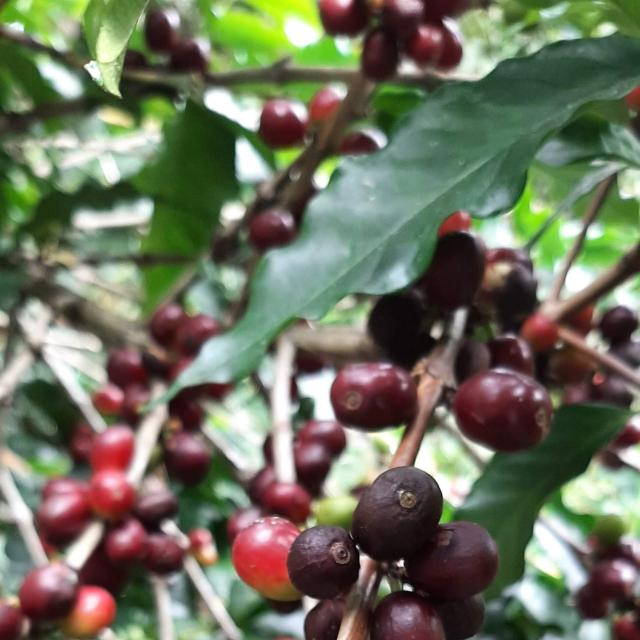red: (351, 467, 443, 562), (454, 368, 554, 453), (405, 522, 500, 601), (331, 363, 417, 431), (287, 527, 360, 601), (370, 592, 446, 640), (18, 564, 77, 621), (35, 493, 90, 549), (89, 425, 133, 472), (103, 518, 146, 566)
yellow: (232, 517, 302, 602), (60, 587, 116, 640), (88, 470, 136, 522)
